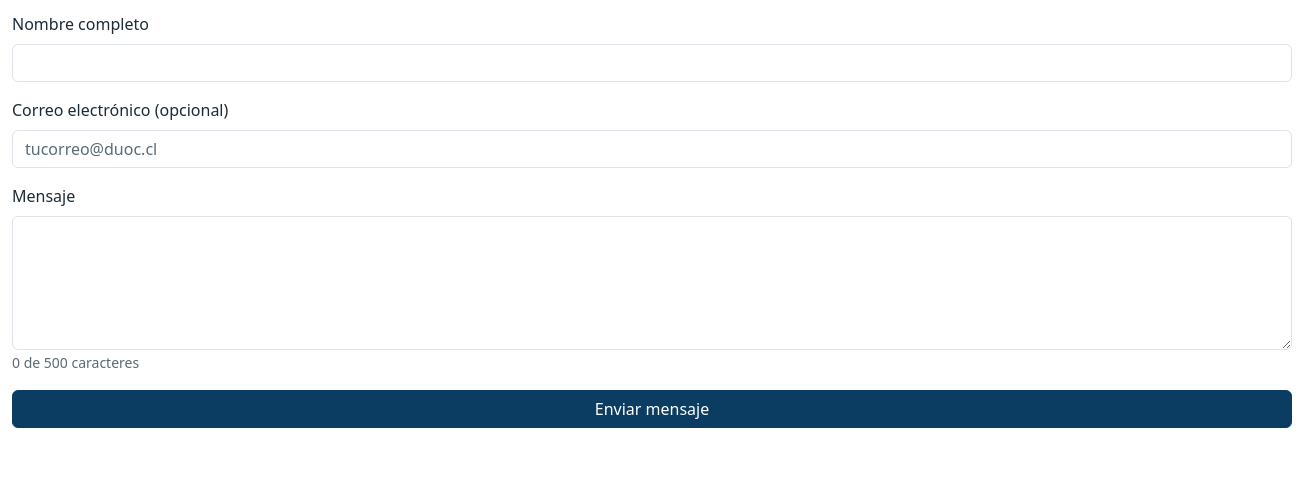
Scenario: FormularioContacto › exige nombre y mensaje, pero acepta el correo vacío
Click the button "Enviar mensaje" at (652, 409), box [12,390,1292,428]
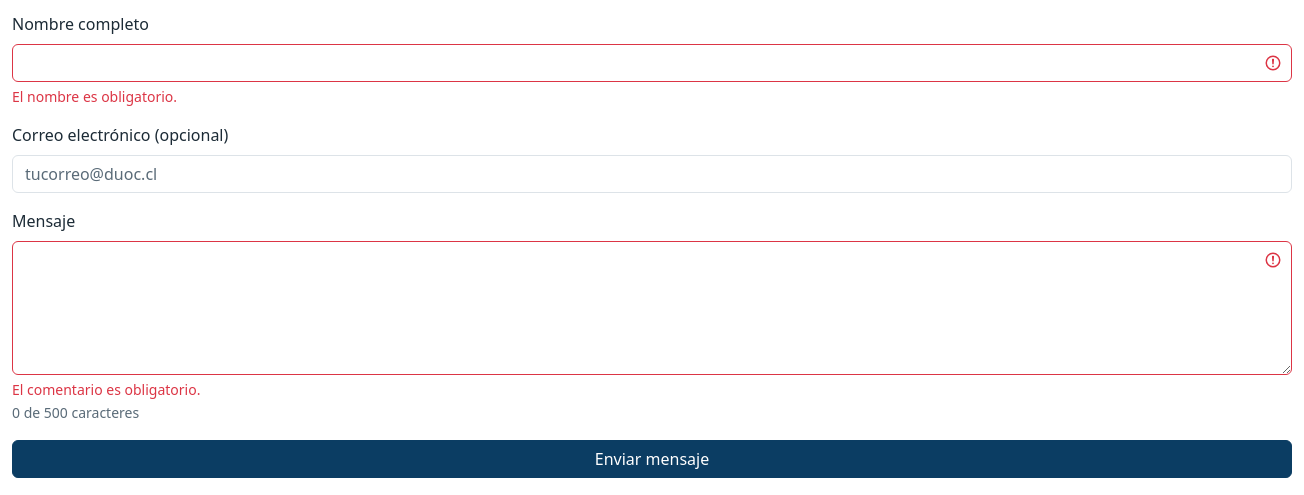
Expected: the text "El nombre es obligatorio." is shown, [12,87,177,106]
Expected: the text "El comentario es obligatorio." is shown, [12,380,200,399]
